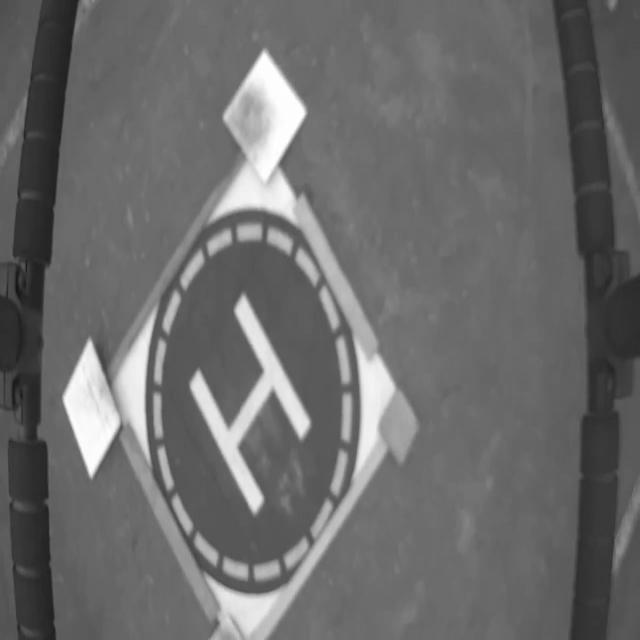Helipad: (188, 293, 312, 517)
